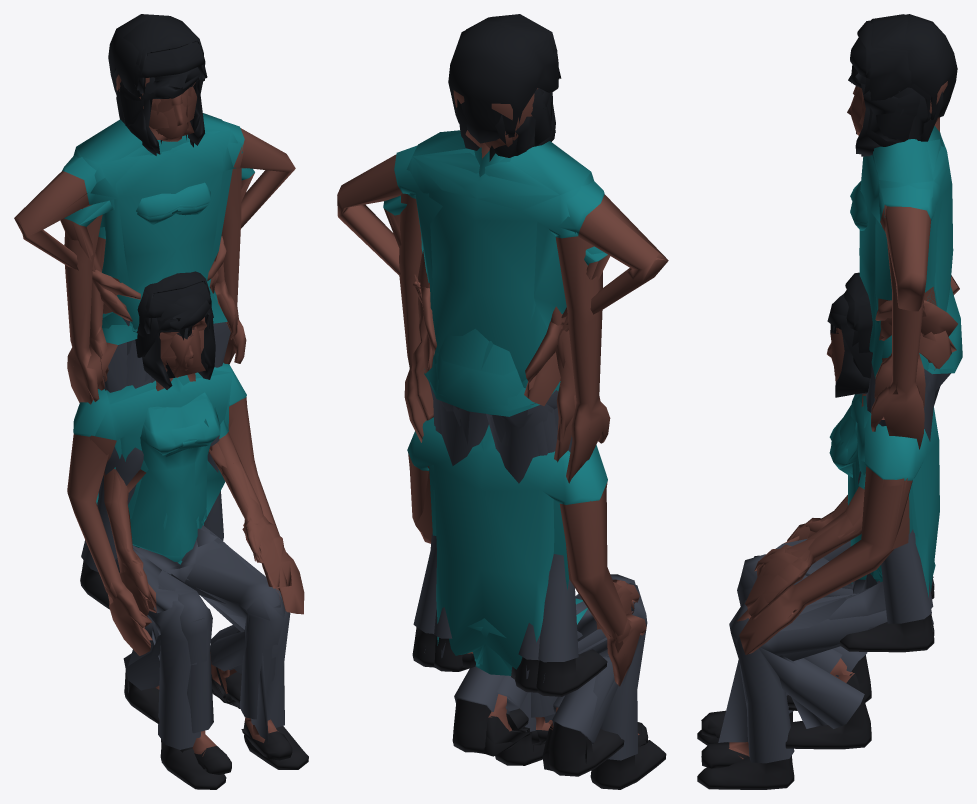
Rendered from crowd-props.glb.
3 renders of one model, left to right at view 1: azimuth 30°, elevation 25°; view 2: azimuth 150°, elevation 25°; view 3: azimuth 270°, elevation 25°, orthographic. The views are drawn at different scales.
Parts seen in each view (by area): view 1: cr-sit-a0, cr-hips-a0, cr-sit-b0, cr-sit-b1, cr-stand-a0, cr-perch-b1, cr-hips-b0, cr-hips-a0-lite, cr-perch-b0, cr-stand-a0-lite, cr-hips-a1, cr-perch-a0 (+10 smaller); view 2: cr-sit-a0, cr-stand-a0, cr-hips-a0, cr-stand-a1, cr-perch-a0, cr-stand-a0-lite, cr-stand-b0, cr-stand-b1, cr-hips-b0, cr-hips-a0-lite, cr-hips-b1, cr-perch-a0-lite (+9 smaller); view 3: cr-sit-a0, cr-hips-a0, cr-stand-a0, cr-perch-a0, cr-sit-b1, cr-hips-a1, cr-sit-b0, cr-stand-a1, cr-hips-b0, cr-stand-a0-lite, cr-perch-b0, cr-perch-b1 (+9 smaller).
Part boxes in pixels (x1,y1,x2,y2): cr-sit-a0: (67,271,308,789); cr-hips-a0: (14,32,294,609); cr-sit-b0: (103,303,286,769); cr-sit-b1: (109,300,292,774); cr-stand-a0: (64,16,246,404); cr-perch-b1: (105,292,291,707); cr-hips-b0: (60,72,254,321); cr-hips-a0-lite: (17,42,246,382); cr-perch-b0: (109,303,287,707); cr-stand-a0-lite: (73,113,242,388); cr-hips-a1: (113,42,295,172); cr-perch-a0: (123,625,241,723); cr-sit-a0: (407,417,666,789); cr-stand-a0: (399,14,610,692); cr-hips-a0: (337,14,668,696); cr-stand-a1: (399,24,556,256); cr-perch-a0: (452,624,646,776); cr-stand-a0-lite: (412,130,605,678); cr-stand-b0: (411,92,575,666); cr-stand-b1: (418,89,575,455); cr-hips-b0: (383,92,610,666); cr-hips-a0-lite: (415,143,666,682); cr-hips-b1: (384,89,604,679); cr-perch-a0-lite: (408,439,631,763); cr-sit-a0: (697,272,939,789); cr-hips-a0: (839,20,959,652); cr-stand-a0: (869,14,953,635); cr-perch-a0: (759,646,871,749); cr-sit-b1: (701,312,882,768); cr-hips-a1: (850,37,930,636); cr-sit-b0: (702,293,935,762); cr-stand-a1: (887,14,957,293); cr-hips-b0: (850,65,956,441); cr-stand-a0-lite: (871,126,948,624); cr-perch-b0: (731,353,868,709); cr-perch-b1: (744,294,885,710).
Bounding box in the file's own units: 0.9112 × 2.19 × 0.7149.
1 material, 1 textured.
